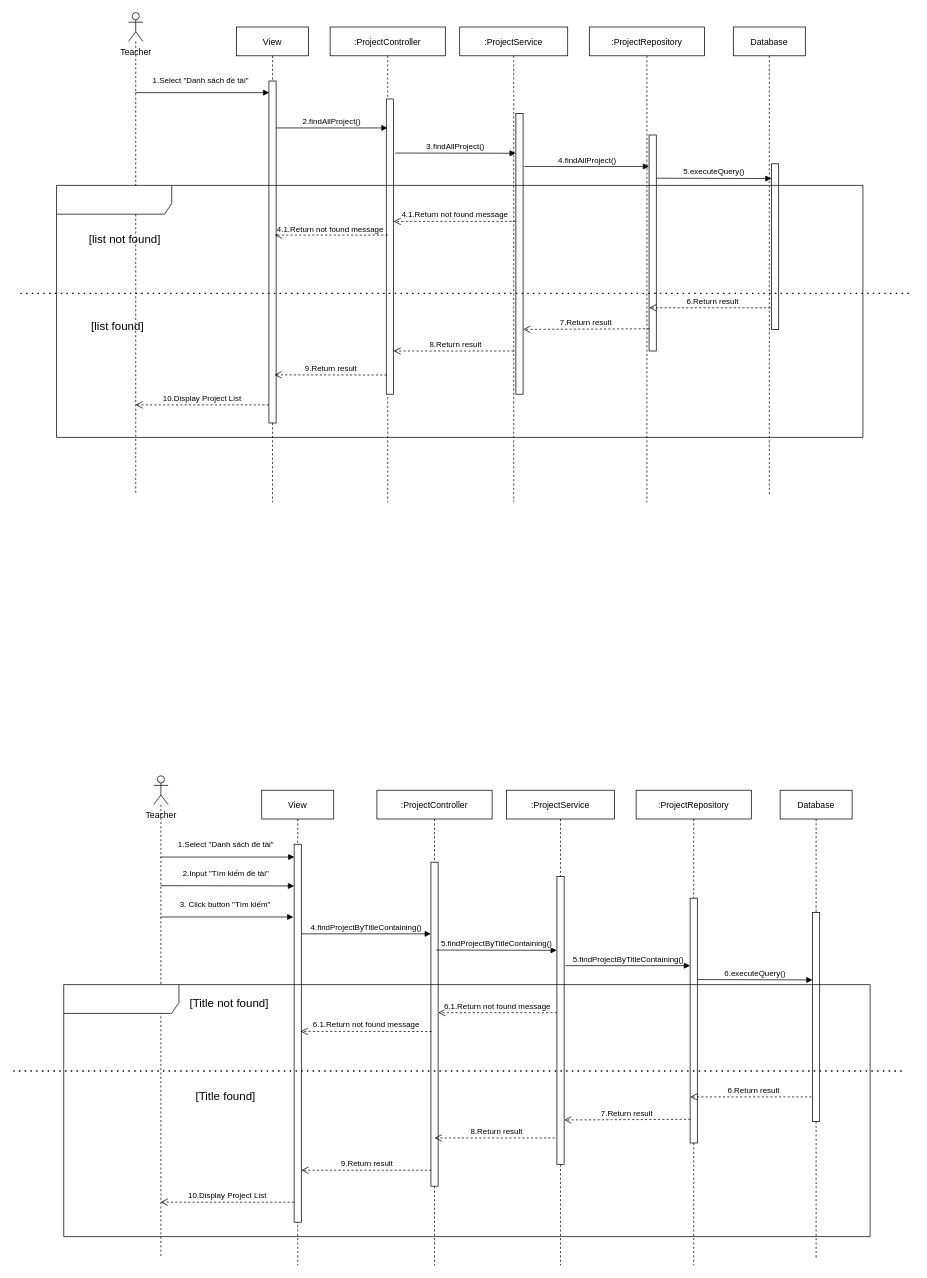
This 927x1278 diagram has some shape labels left out. Each missing label, with the box of its shape:
alt find All Project: (56, 185, 863, 437)
alt find Project by Title Containing: (63, 984, 870, 1237)
